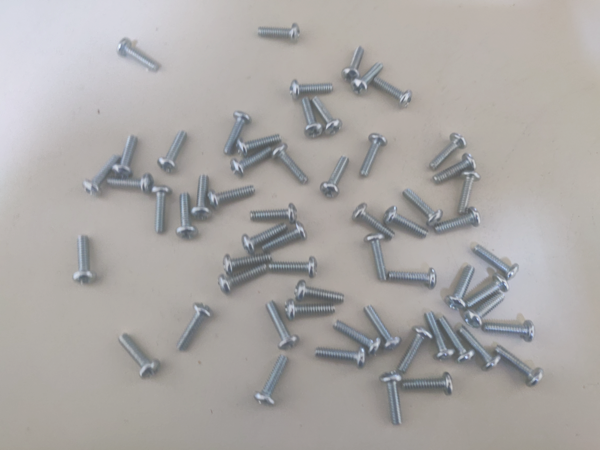shortscrew: (118, 332, 161, 381), (496, 346, 545, 388), (458, 327, 502, 372), (176, 302, 214, 352), (438, 315, 476, 364), (254, 355, 289, 408), (266, 299, 300, 351), (398, 325, 434, 374), (364, 304, 401, 351), (334, 320, 382, 356), (473, 245, 520, 280), (83, 154, 121, 197), (271, 143, 309, 186), (424, 311, 457, 360), (402, 188, 443, 227), (353, 203, 396, 240), (116, 37, 160, 73), (383, 206, 430, 239), (218, 264, 269, 294), (430, 131, 468, 171), (242, 224, 289, 256), (262, 223, 308, 254), (467, 274, 510, 307), (230, 146, 274, 178), (465, 293, 505, 328), (434, 207, 482, 236), (446, 264, 475, 312), (158, 130, 189, 173), (223, 110, 252, 155), (294, 279, 346, 304), (360, 134, 389, 178), (432, 154, 476, 183), (312, 96, 343, 137), (370, 78, 412, 108), (320, 155, 349, 198), (364, 233, 389, 281), (483, 320, 535, 343), (402, 373, 454, 396), (380, 373, 402, 426), (175, 192, 199, 240), (112, 135, 138, 179), (269, 256, 318, 279), (285, 299, 336, 321), (208, 186, 256, 209), (236, 134, 282, 158), (74, 235, 96, 285), (389, 268, 437, 290), (353, 62, 384, 96), (316, 347, 366, 368), (249, 203, 298, 224), (459, 171, 482, 215), (223, 255, 273, 275), (151, 186, 172, 233), (257, 21, 301, 43), (290, 79, 334, 101), (301, 97, 324, 139), (107, 173, 156, 192), (191, 175, 211, 221), (342, 46, 366, 82)
